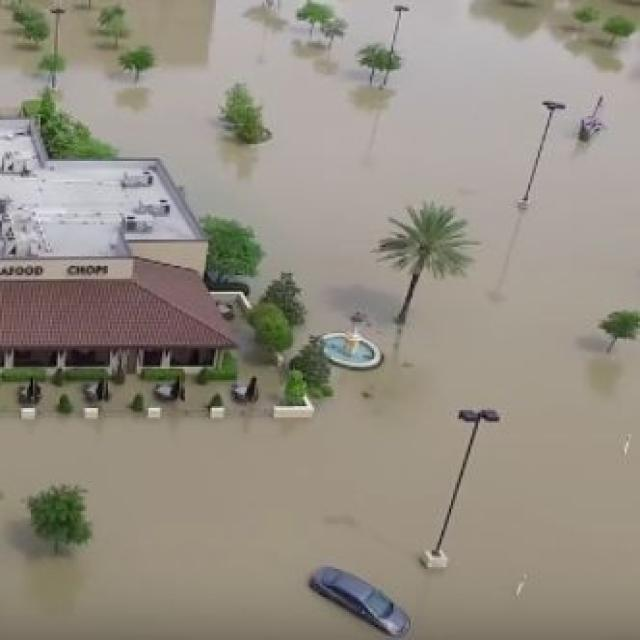flooded_areas: (2, 82, 536, 632)
